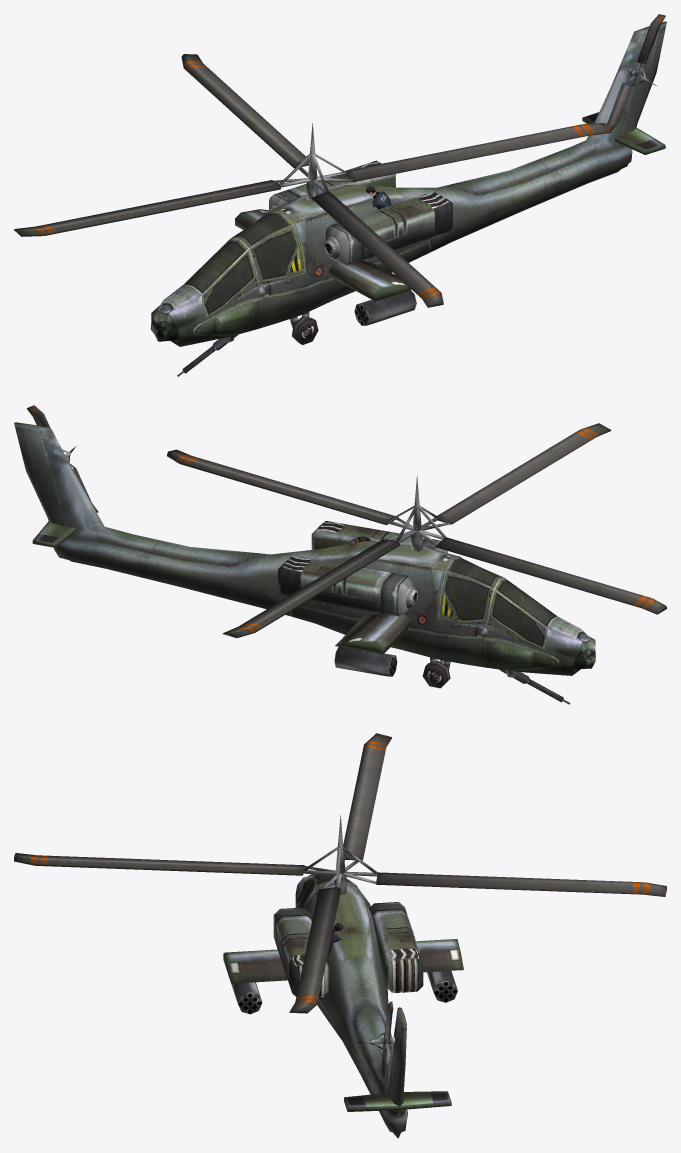
The model's file is esc_ext.FBX.
3 renders of one model, top to bottom at view 1: azimuth 30°, elevation 25°; view 2: azimuth 150°, elevation 25°; view 3: azimuth 270°, elevation 25°, orthographic. The views are drawn at different scales.
Visible parts, largest first — view 1: helicopter, rotor; view 2: helicopter, rotor; view 3: helicopter, rotor.
Part boxes in pixels (box(x1,y1,x2,y2)): helicopter: box(150, 14, 666, 376); rotor: box(14, 54, 611, 307); helicopter: box(14, 405, 595, 704); rotor: box(167, 423, 666, 637); helicopter: box(223, 874, 463, 1138); rotor: box(14, 733, 666, 1013).
Bounding box in the file's own units: 1018 × 847 × 311.
Materials: 7 (7 with a texture image).
